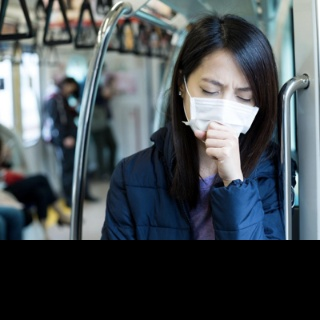with_mask: (184, 77, 256, 145)
